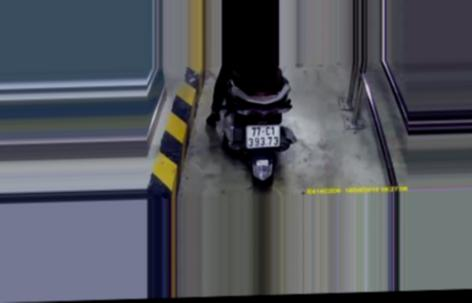License_Plate: (242, 119, 283, 153)
